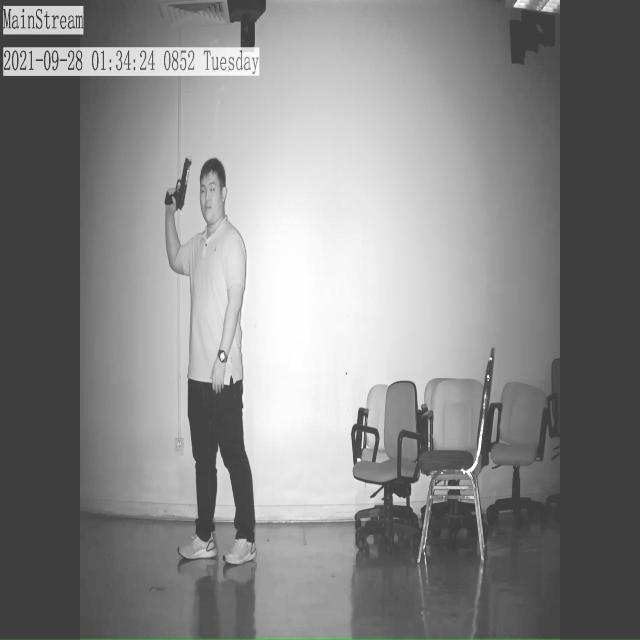Gun: (162, 155, 198, 209)
